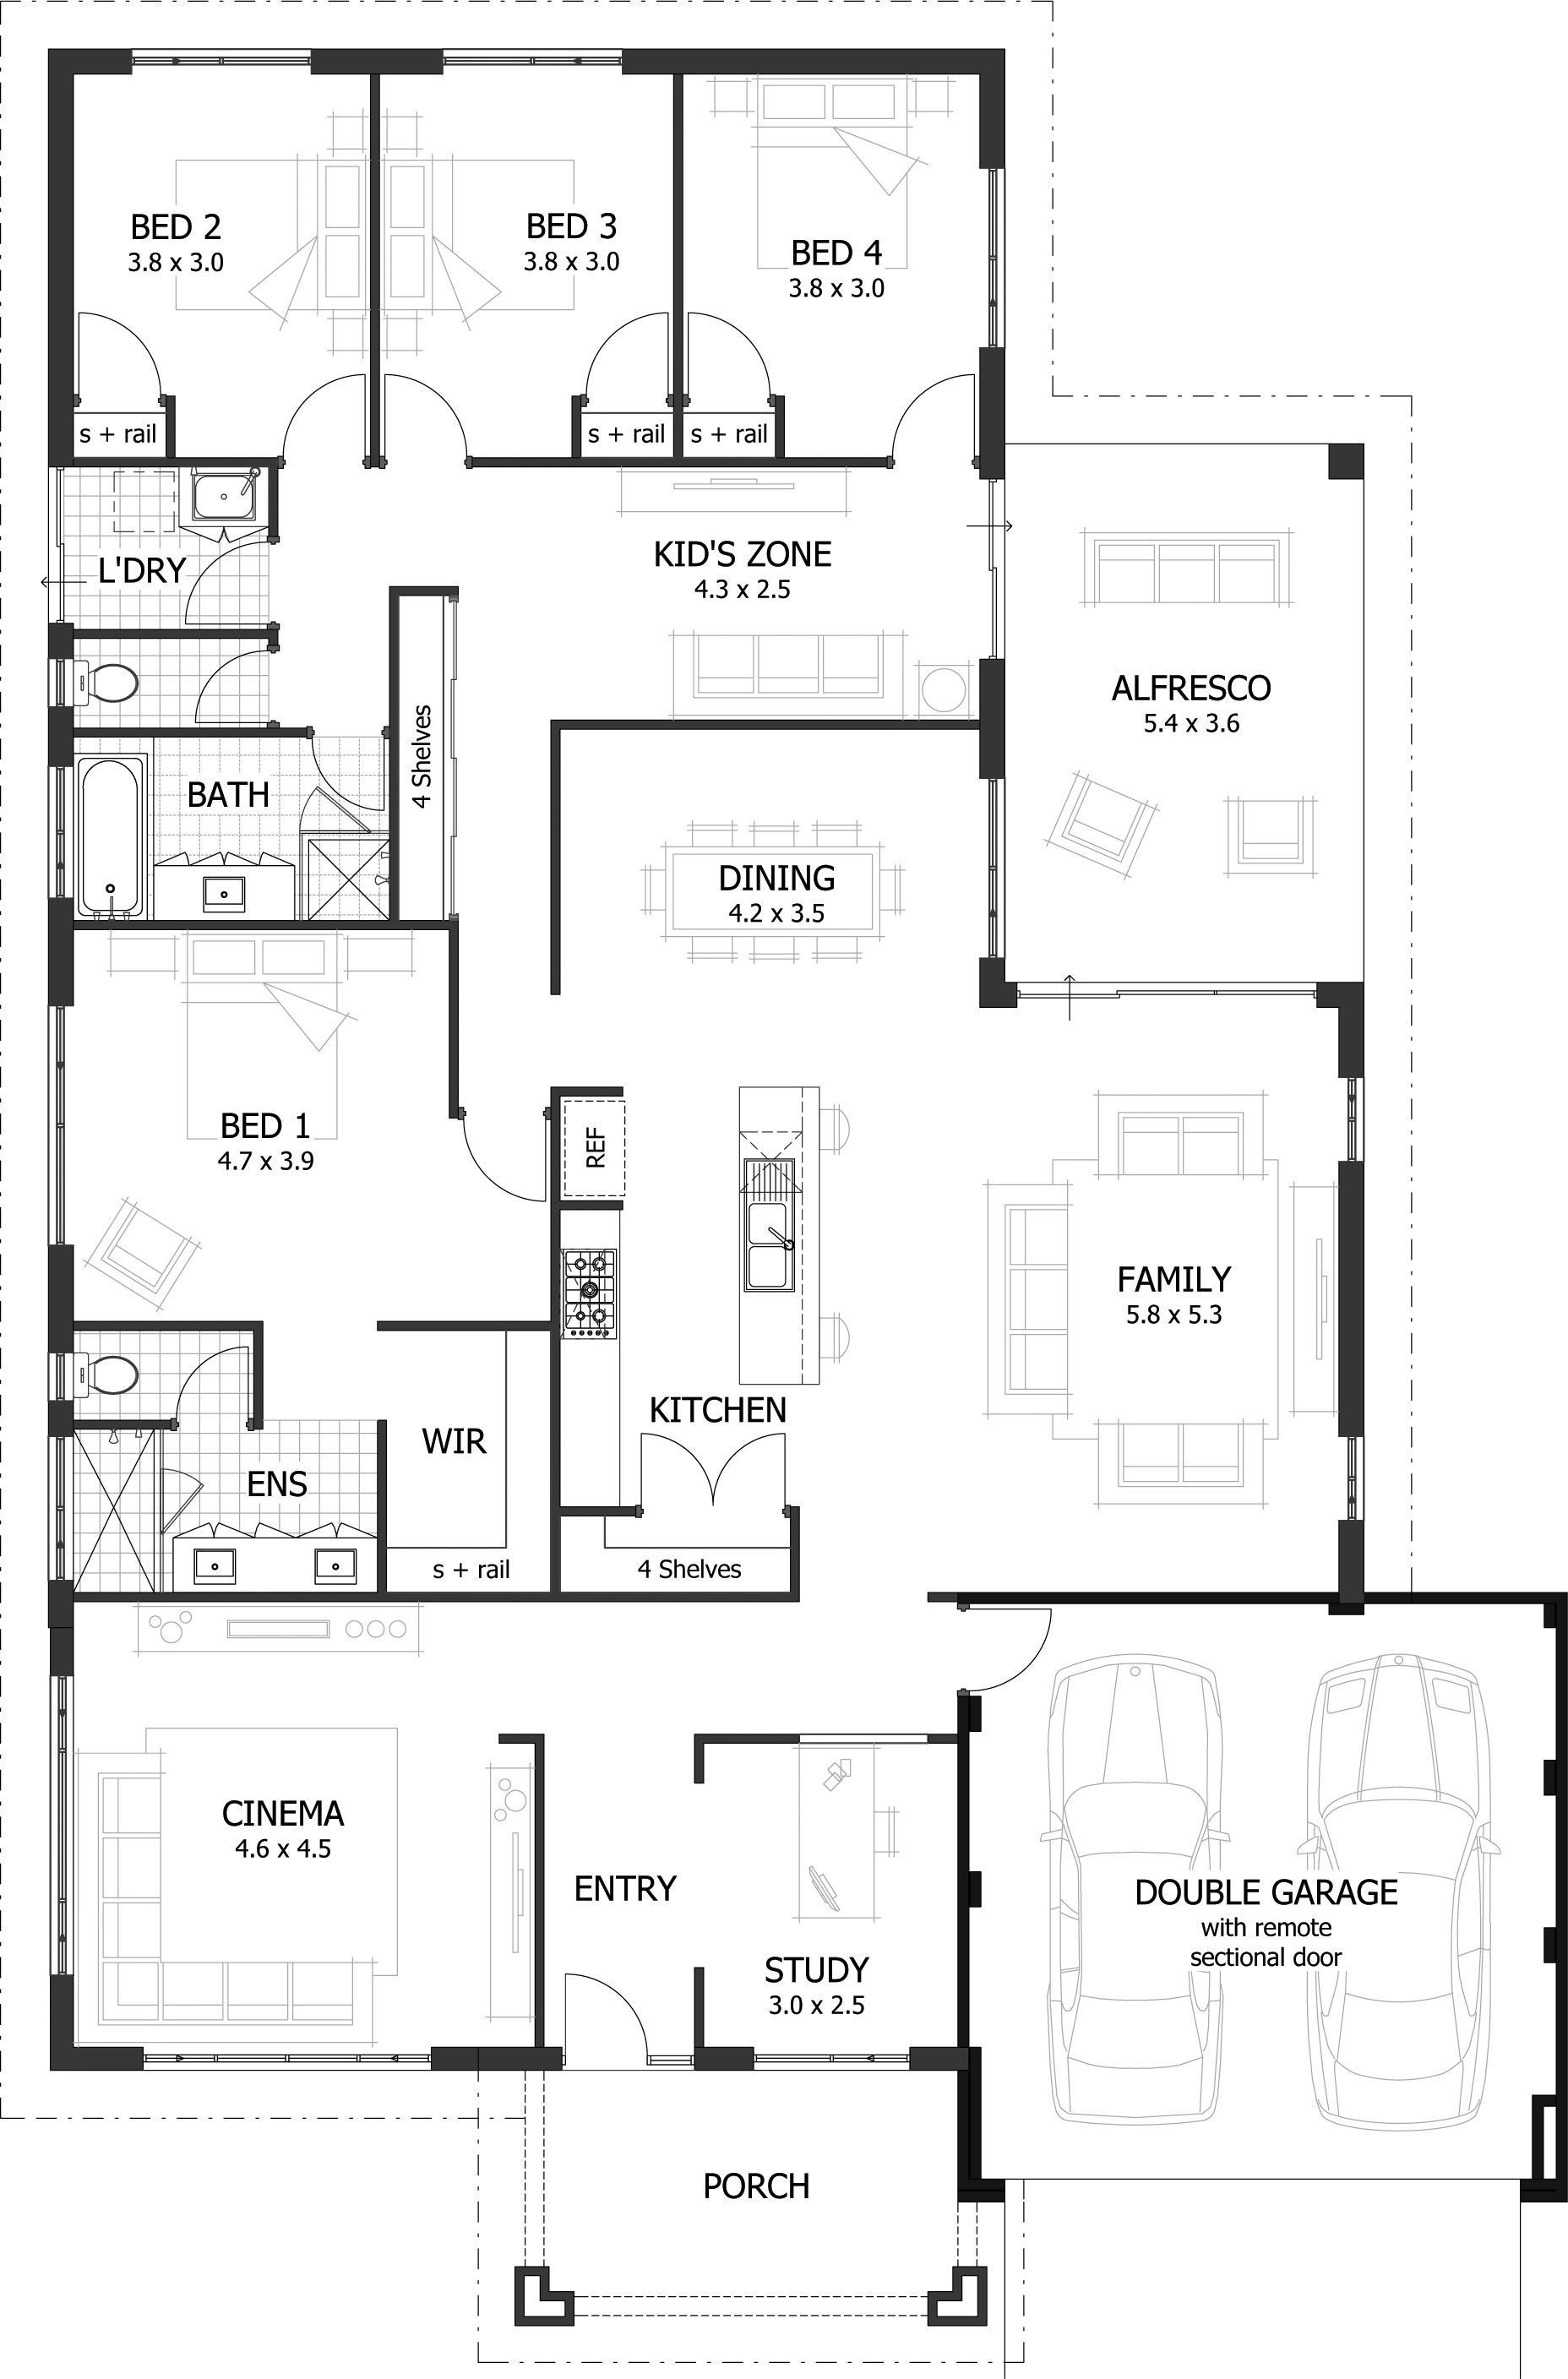door: (627, 1426, 814, 1503), (446, 1116, 549, 1223), (682, 290, 782, 390), (588, 297, 672, 397), (880, 360, 973, 448), (75, 301, 152, 397)
window: (37, 1009, 68, 1252), (455, 42, 620, 80), (1332, 1405, 1376, 1543), (1330, 1025, 1365, 1190), (987, 170, 1020, 334), (130, 44, 308, 70)
